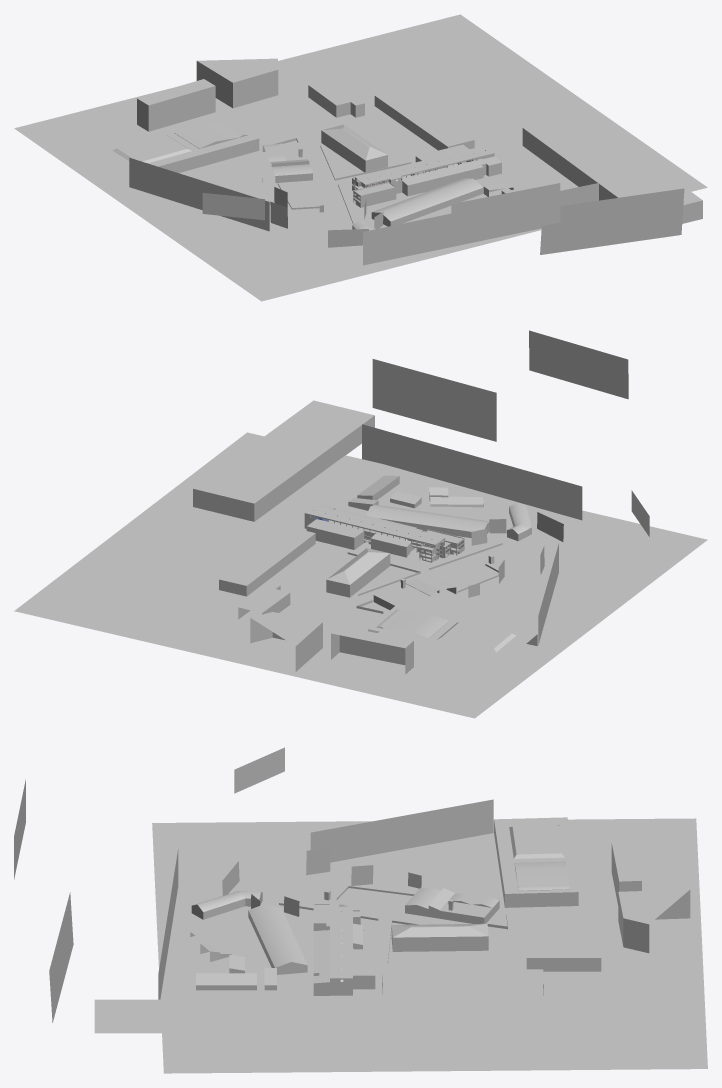
The model's file is Todo-P3prueba.fbx.
3 renders of one model, top to bottom at view 1: azimuth 30°, elevation 25°; view 2: azimuth 150°, elevation 25°; view 3: azimuth 270°, elevation 25°, orthographic. The views are drawn at different scales.
Visible parts, largest first — view 1: SueloPlano, Edificios, PlanoArboles2, PlanoArboles1, backFabricas, TartngaEXT, backParking, EdificiosTraseros, FabricasFrente, techoExterior, PlanoArbolese3, planoArboles; view 2: SueloPlano, Edificios, backFabricas, PlanoArboles2, PlanoArboles1, EdificiosTraseros, TartngaEXT, FabricasFrente, techoExterior, backParking; view 3: SueloPlano, Edificios, backParking, EdificiosTraseros, TartngaEXT, FabricasFrente, techoExterior, PlanoArboles2, PlanoArbolese3, backFabricas, arbol13, PlanoArboles1.
Boxes of the visible parts, <box> form: SueloPlano: <box>14,14,707,301</box>; Edificios: <box>94,58,702,230</box>; PlanoArboles2: <box>540,188,684,254</box>; PlanoArboles1: <box>451,183,560,243</box>; backFabricas: <box>363,183,598,265</box>; TartngaEXT: <box>352,144,501,207</box>; backParking: <box>129,157,269,231</box>; EdificiosTraseros: <box>371,178,517,226</box>; FabricasFrente: <box>262,142,411,224</box>; techoExterior: <box>355,145,493,184</box>; PlanoArbolese3: <box>202,193,264,220</box>; planoArboles: <box>328,229,368,247</box>; SueloPlano: <box>14,432,707,718</box>; Edificios: <box>193,400,537,674</box>; backFabricas: <box>362,424,582,520</box>; PlanoArboles2: <box>372,359,496,441</box>; PlanoArboles1: <box>529,330,628,399</box>; EdificiosTraseros: <box>348,475,489,537</box>; TartngaEXT: <box>304,504,464,562</box>; FabricasFrente: <box>347,543,502,609</box>; techoExterior: <box>305,505,444,544</box>; backParking: <box>538,543,558,644</box>; SueloPlano: <box>152,818,707,1073</box>; Edificios: <box>94,817,690,1033</box>; backParking: <box>310,799,493,862</box>; EdificiosTraseros: <box>190,904,307,990</box>; TartngaEXT: <box>313,903,375,995</box>; FabricasFrente: <box>279,887,499,963</box>; techoExterior: <box>326,906,352,978</box>; PlanoArboles2: <box>49,892,73,1022</box>; PlanoArbolese3: <box>234,747,284,793</box>; backFabricas: <box>158,849,178,999</box>; arbol13: <box>306,847,330,875</box>; PlanoArboles1: <box>14,779,25,879</box>.
Bounding box in the file's own units: 38855 × 8784 × 44676.
